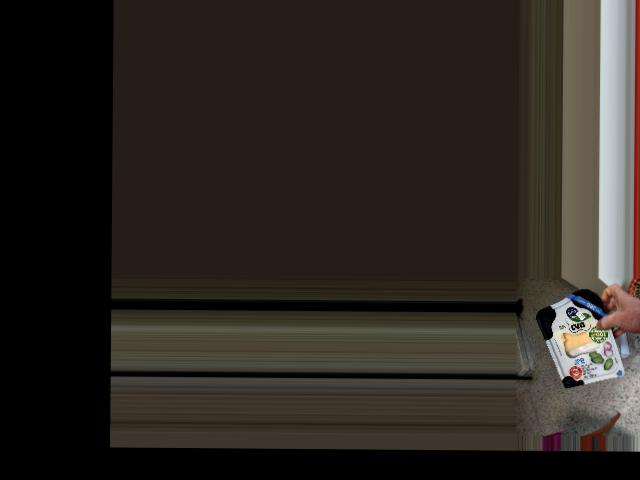cheese: (542, 285, 610, 388)
